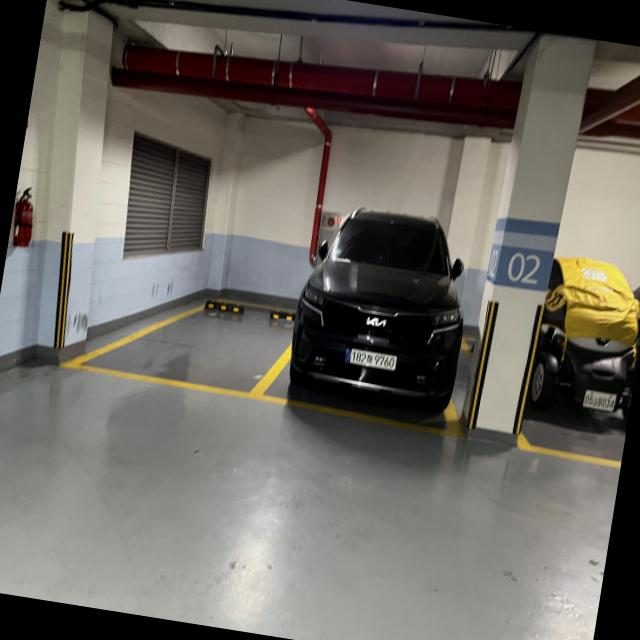car: (288, 210, 464, 419)
free: (74, 301, 308, 392)
